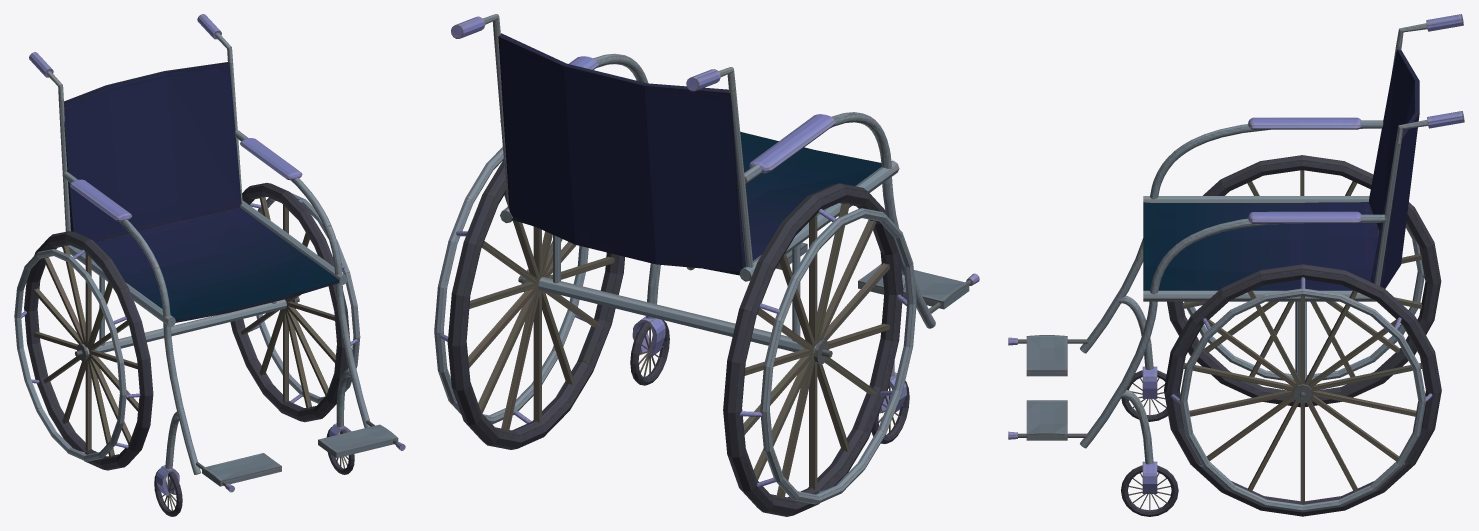
Rendered from wheelchair.glb.
3 views of the same model, side by side, from view 1: azimuth 30°, elevation 25°; view 2: azimuth 150°, elevation 25°; view 3: azimuth 270°, elevation 25° (orthographic). The views are drawn at different scales.
Parts seen in each view (by area): view 1: storystage-size; view 2: storystage-size; view 3: storystage-size.
Part boxes in pixels (<box>): storystage-size: <box>14,14,405,516</box>; storystage-size: <box>434,14,979,516</box>; storystage-size: <box>1008,14,1464,516</box>.
Bounding box in the file's own units: 0.6253 × 0.9 × 0.9098.
1 material, 1 textured.
